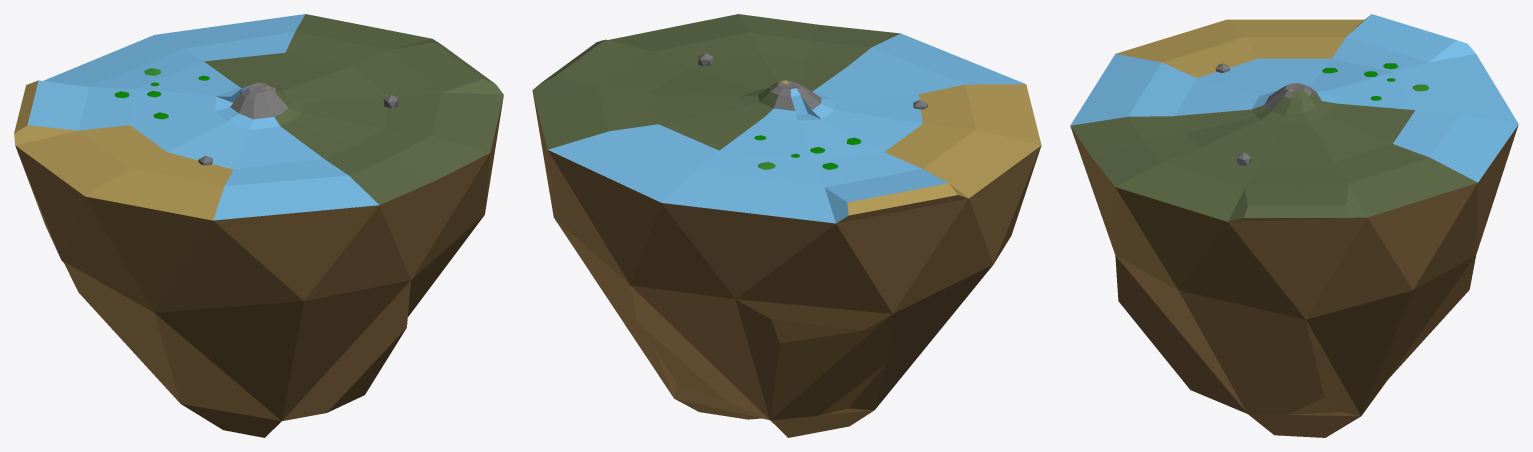
File: delta.glb
3 views of the same model, side by side, from view 1: azimuth 30°, elevation 25°; view 2: azimuth 150°, elevation 25°; view 3: azimuth 270°, elevation 25° (orthographic). The views are drawn at different scales.
Visible parts, largest first — view 1: planet; view 2: planet; view 3: planet.
Boxes of the visible parts, x1,y1,x2,y2 form: planet: [14, 14, 503, 437]; planet: [532, 14, 1041, 437]; planet: [1070, 14, 1518, 437].
Size of the model in its own units: 2.8 by 2.11 by 2.63.
